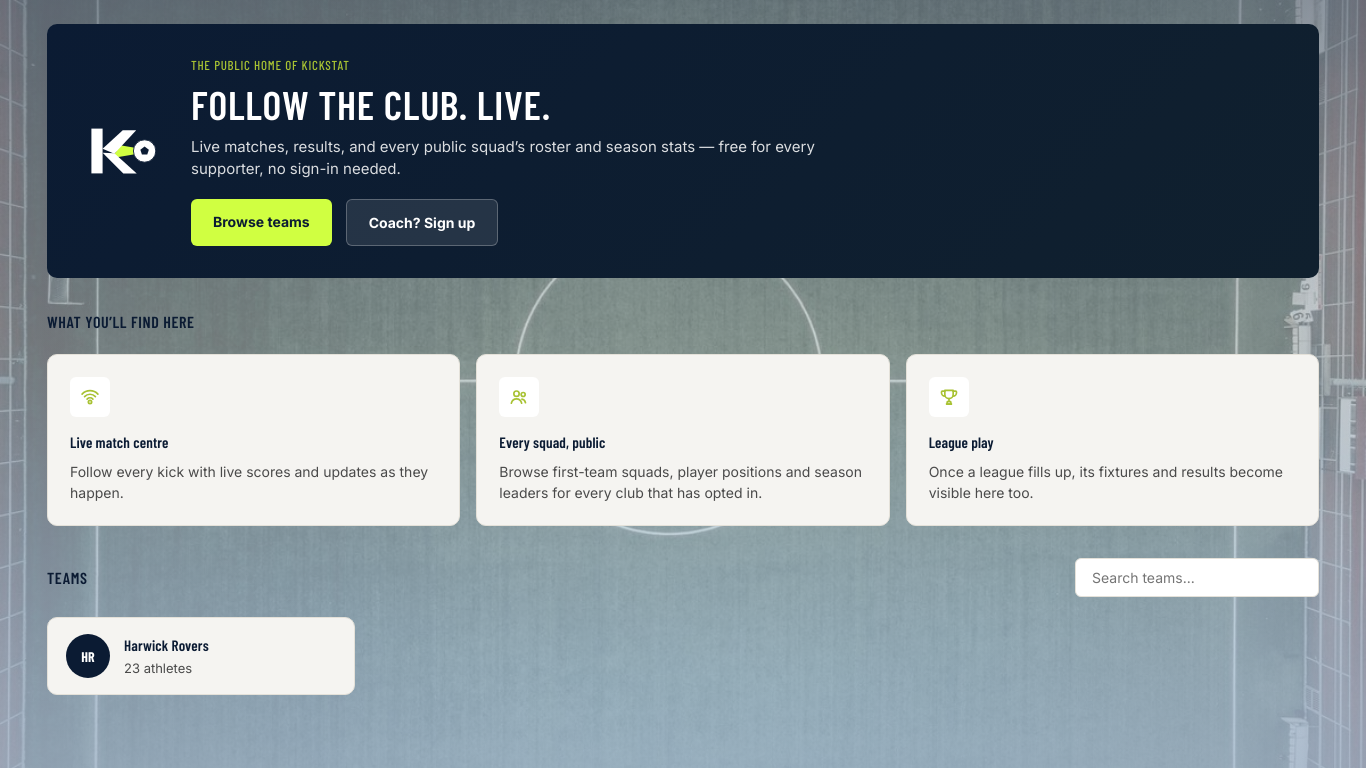
PublicLanding › shows a message when a search matches no teams
This screenshot has width=1366, height=768.
Check: the heading "Harwick Rovers" is shown, box [124, 634, 209, 656]
Step 1. Type "zzz" into the field with placeholder "Search teams..." → (1197, 578), box [1075, 558, 1319, 597]
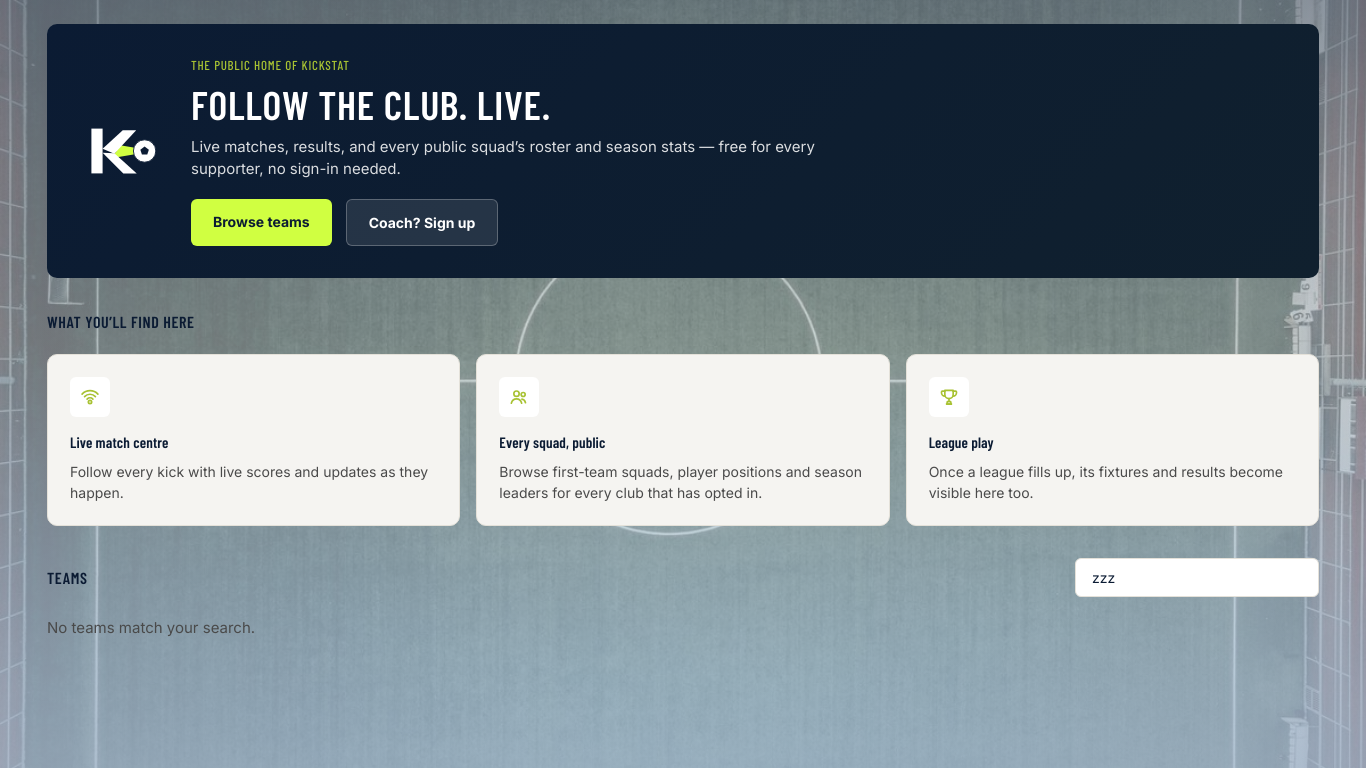
Check: the text "No teams match your search." is shown, box [47, 618, 255, 637]
